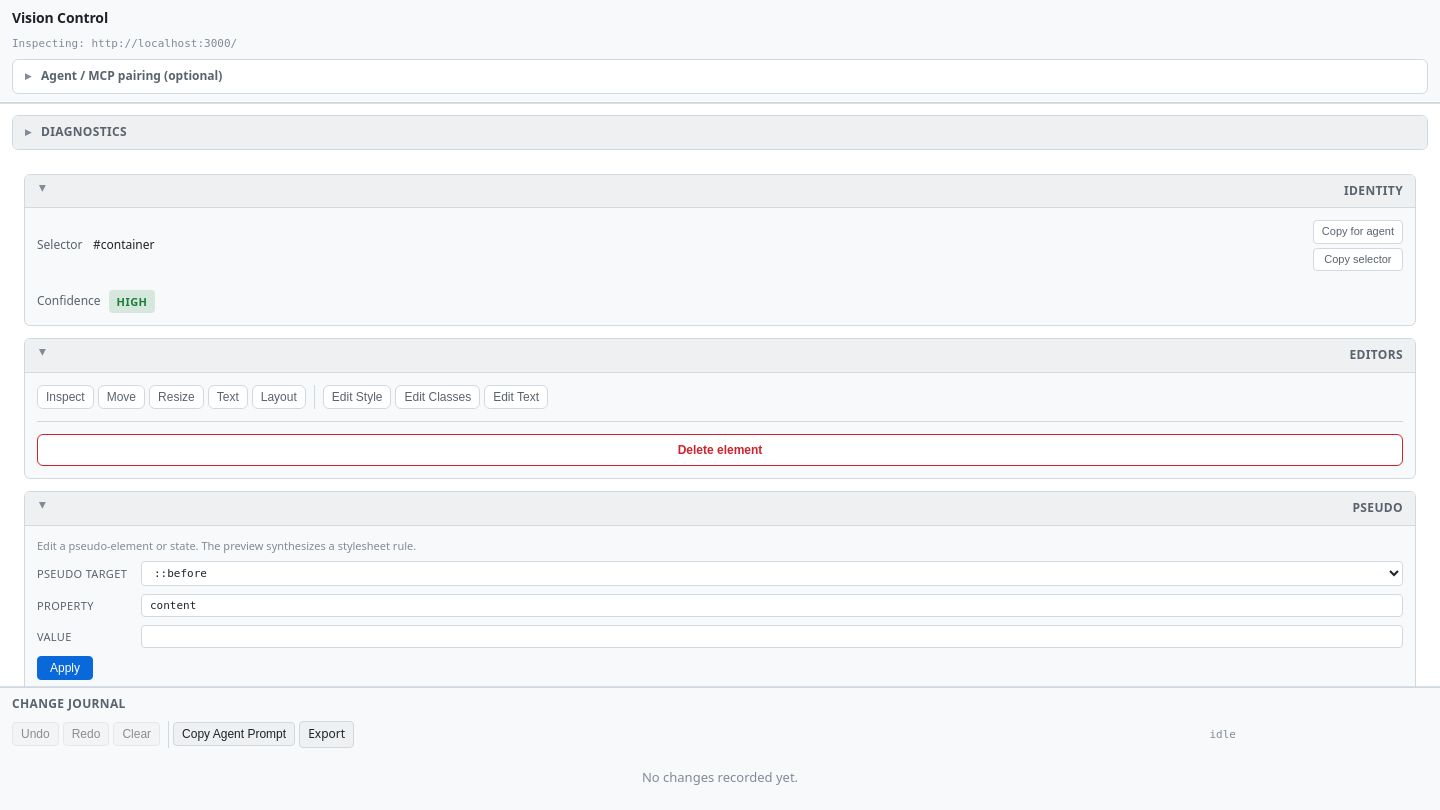
Test: App context and optional pairing › copies matching ready selection context with every origin and reports success
The width and height of the screenshot is (1440, 810).
Expected: the text with test id "inspected-url" shows "http://localhost:3000/", [92,37,237,50]
Click the button "Copy for agent" at x=1358, y=232, box [1313,220,1403,244]
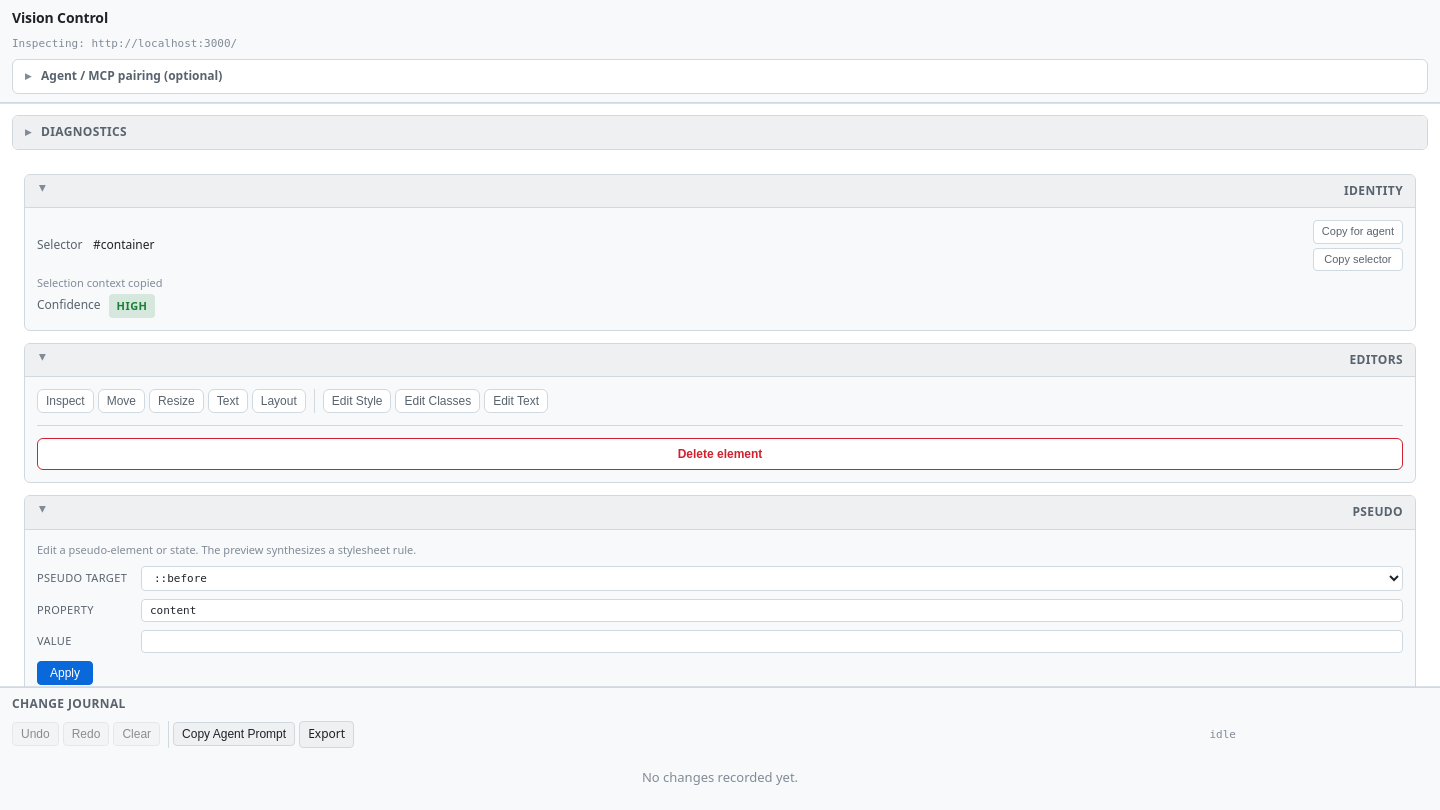
Expected: the text with test id "selection-copy-status" reads "Selection context copied", [37,275,162,290]
